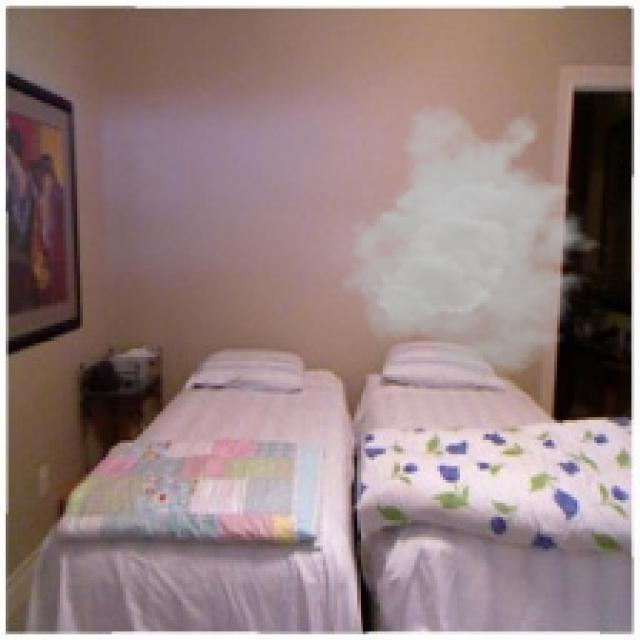Smoke: (340, 102, 614, 378)
